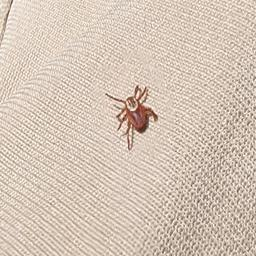Dermacentor variabilis: (103, 90, 162, 151)
